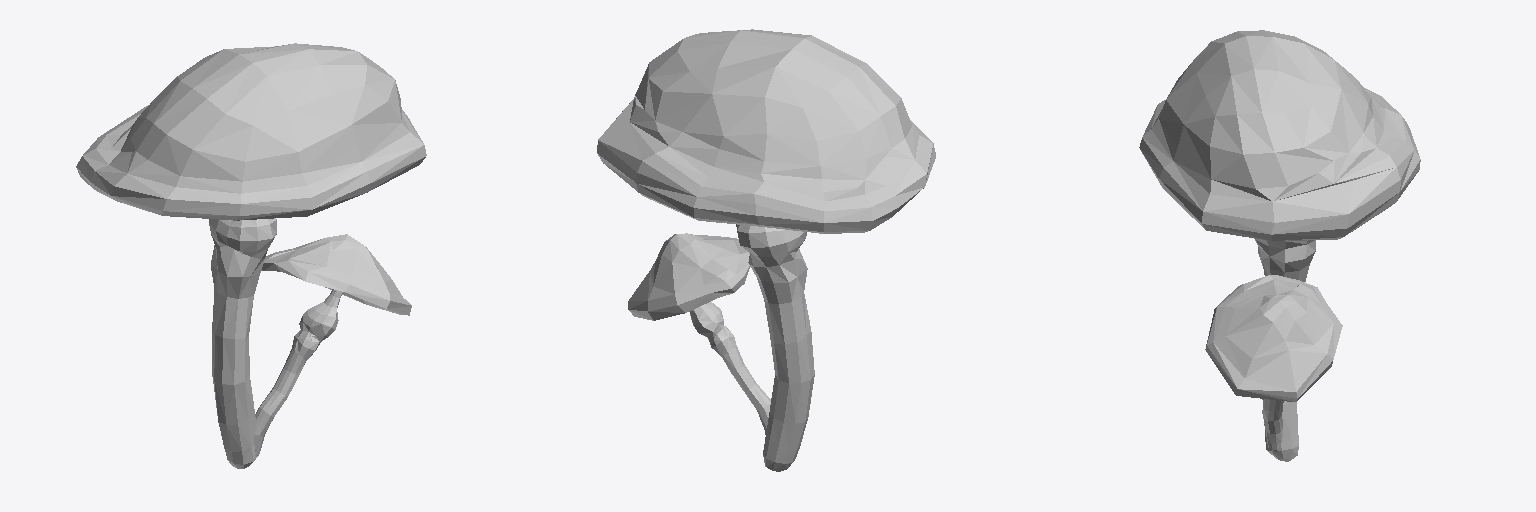
Rendered from PolySphere4_1_low.obj.
3 views of the same model, side by side, from view 1: azimuth 30°, elevation 25°; view 2: azimuth 150°, elevation 25°; view 3: azimuth 270°, elevation 25° (orthographic).
Visible parts, largest first — view 1: Group14194; view 2: Group14194; view 3: Group14194.
Boxes of the visible parts, box(x1,y1,x2,y2) form: Group14194: box(76, 43, 426, 468); Group14194: box(597, 29, 935, 471); Group14194: box(1139, 30, 1420, 461).
Bounding box in the file's own units: 0.4797 × 0.6385 × 0.3875.